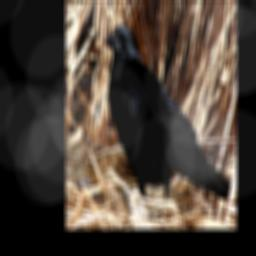Crow: (103, 23, 232, 201)
